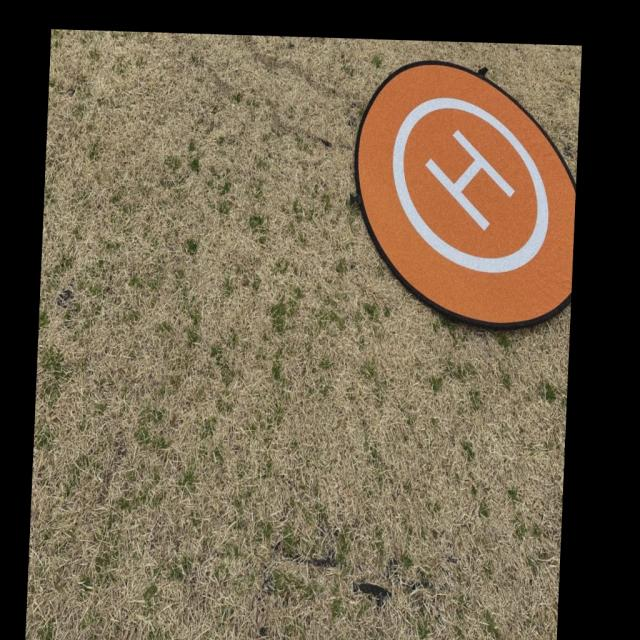helipad: (390, 93, 554, 275)
